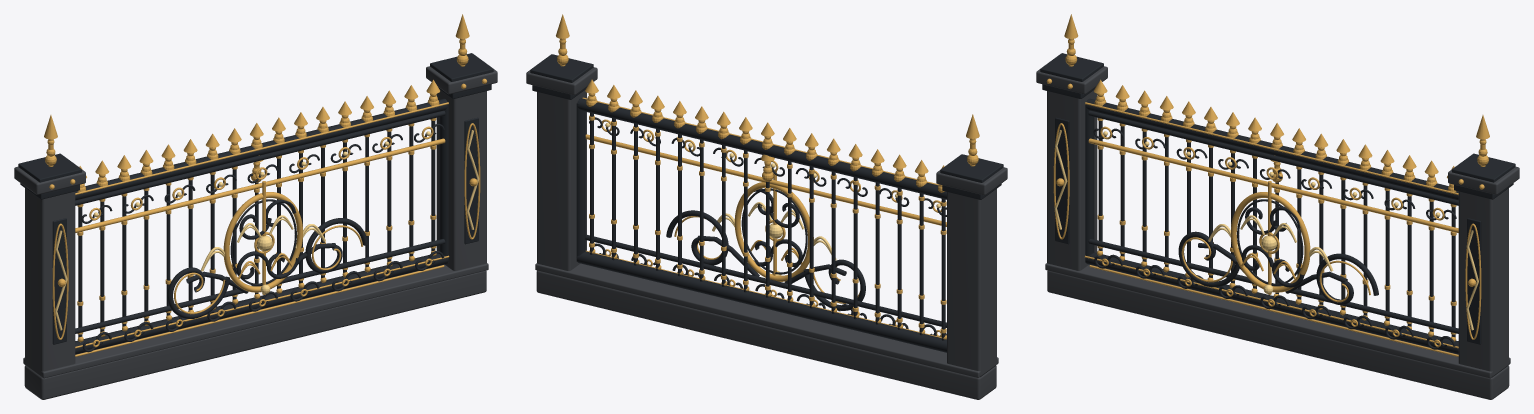
File: Grand_Imperial_Fence.glb
3 views of the same model, side by side, from view 1: azimuth 30°, elevation 25°; view 2: azimuth 150°, elevation 25°; view 3: azimuth 330°, elevation 25° (orthographic).
Visible parts, largest first — view 1: Granite | Continuous plinth, Left Pillar | Main shaft, Granite | Upper ledge, Right Pillar | Main shaft, Frame | Lower rail, Frame | Upper rail, Frieze | Upper edge, Frieze | Lower edge, Bottom ornament | Top rail, Royal Crest | Outer oval, Frame | Side rail.001, Left Pillar | Gold plaque (+24 smaller); view 2: Granite | Continuous plinth, Left Pillar | Main shaft, Granite | Upper ledge, Right Pillar | Main shaft, Frame | Lower rail, Frame | Upper rail, Bottom ornament | Top rail, Frieze | Lower edge, Frame | Side rail.001, Royal Crest | Outer oval, Left Pillar | Crown top, Right Pillar | Crown top (+21 smaller); view 3: Granite | Continuous plinth, Right Pillar | Main shaft, Granite | Upper ledge, Left Pillar | Main shaft, Frame | Lower rail, Frame | Upper rail, Frieze | Upper edge, Frieze | Lower edge, Bottom ornament | Top rail, Royal Crest | Outer oval, Frame | Side rail, Right Pillar | Gold plaque (+23 smaller).
Part boxes in pixels (x1,y1,x2,y2): Granite | Continuous plinth: [24, 270, 486, 399]; Left Pillar | Main shaft: [25, 188, 75, 377]; Granite | Upper ledge: [23, 263, 488, 378]; Right Pillar | Main shaft: [436, 90, 486, 270]; Frame | Lower rail: [75, 253, 448, 354]; Frame | Upper rail: [75, 98, 448, 200]; Frieze | Upper edge: [75, 110, 445, 205]; Frieze | Lower edge: [75, 138, 445, 232]; Bottom ornament | Top rail: [75, 239, 445, 333]; Royal Crest | Outer oval: [223, 192, 302, 292]; Frame | Side rail.001: [439, 104, 448, 262]; Left Pillar | Gold plaque: [52, 218, 66, 344]; Granite | Continuous plinth: [536, 270, 996, 399]; Left Pillar | Main shaft: [947, 189, 996, 377]; Granite | Upper ledge: [535, 263, 998, 377]; Right Pillar | Main shaft: [537, 90, 586, 270]; Frame | Lower rail: [576, 251, 946, 352]; Frame | Upper rail: [577, 98, 946, 199]; Bottom ornament | Top rail: [585, 234, 946, 327]; Frieze | Lower edge: [585, 134, 946, 226]; Frame | Side rail.001: [576, 103, 585, 261]; Royal Crest | Outer oval: [734, 182, 813, 281]; Left Pillar | Crown top: [940, 154, 1003, 182]; Right Pillar | Crown top: [530, 54, 593, 82]; Granite | Continuous plinth: [1047, 270, 1509, 399]; Right Pillar | Main shaft: [1458, 188, 1508, 377]; Granite | Upper ledge: [1045, 263, 1510, 378]; Left Pillar | Main shaft: [1047, 90, 1097, 270]; Frame | Lower rail: [1085, 252, 1458, 354]; Frame | Upper rail: [1085, 98, 1458, 200]; Frieze | Upper edge: [1088, 110, 1458, 205]; Frieze | Lower edge: [1088, 138, 1458, 232]; Bottom ornament | Top rail: [1088, 239, 1458, 333]; Royal Crest | Outer oval: [1231, 192, 1310, 292]; Frame | Side rail: [1085, 104, 1094, 262]; Right Pillar | Gold plaque: [1467, 218, 1481, 344].
Bounding box in the file's own units: 4.89 × 2.8 × 0.468.
